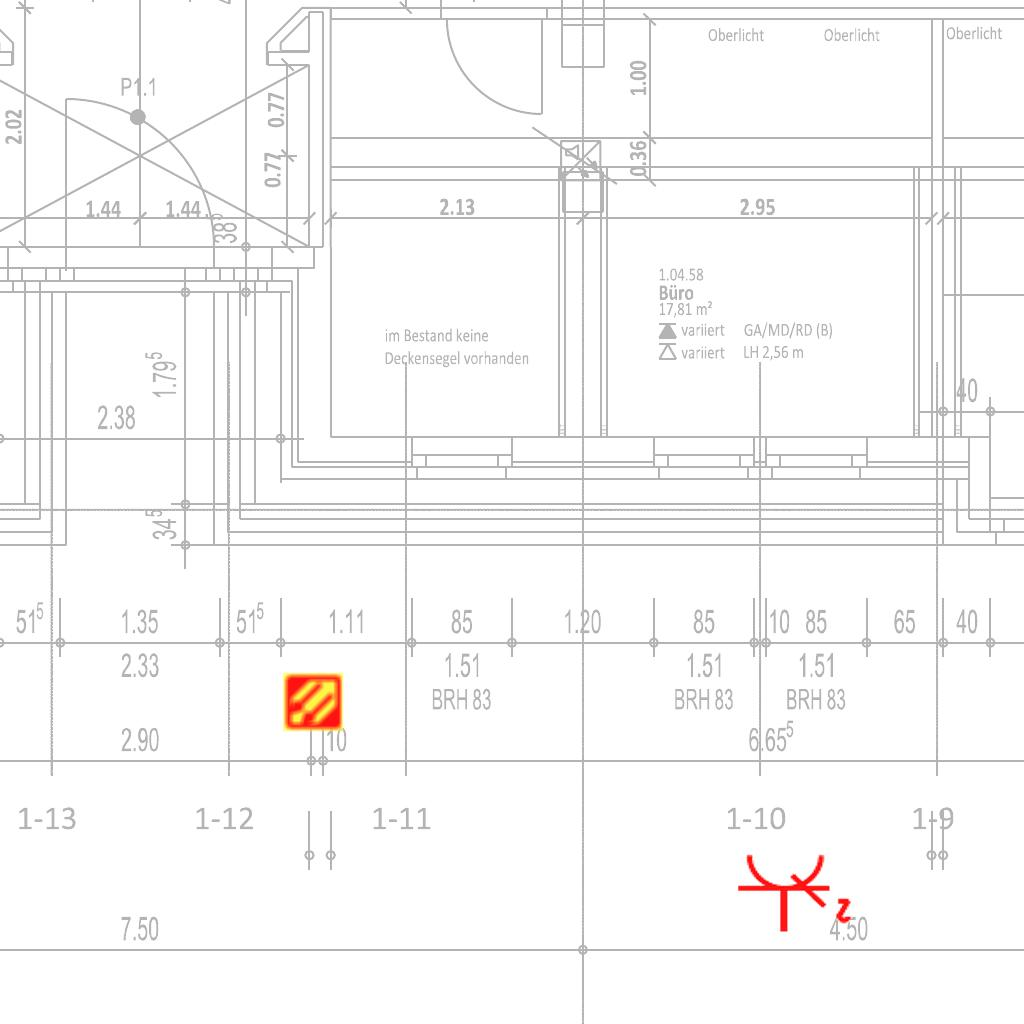ASR_Ansaugrauchmelder: (282, 671, 344, 733)
Schukosteckdose_mehrfach: (733, 850, 854, 938)
